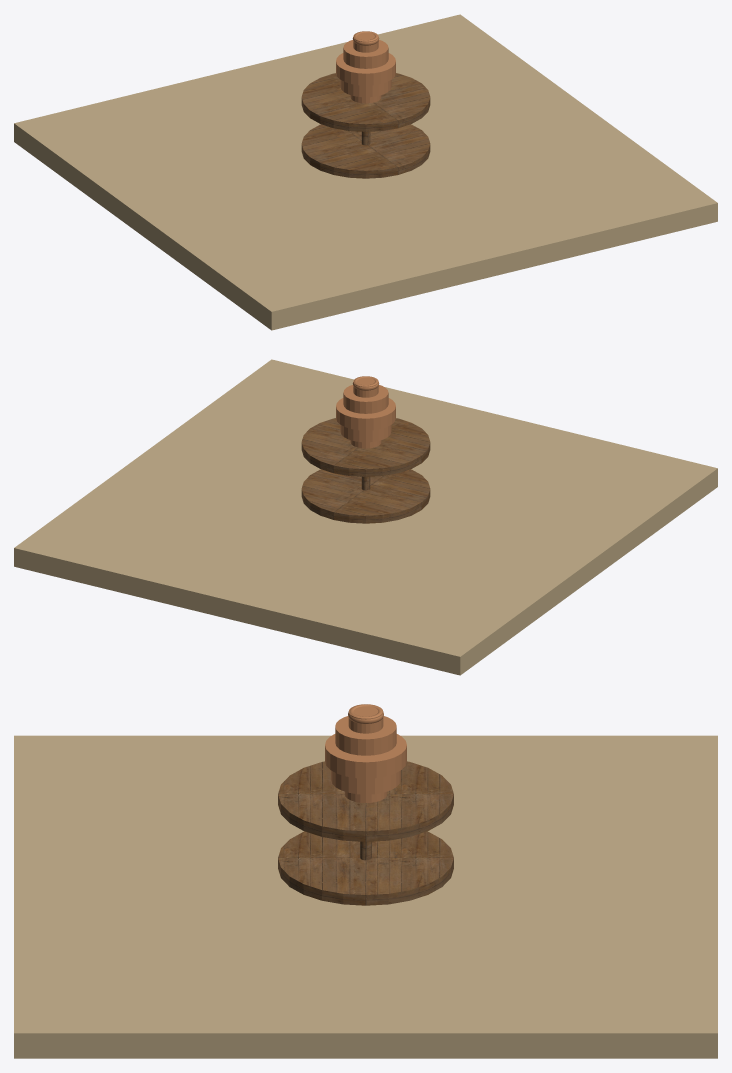
Rendered from roda_oleiro.glb.
3 views of the same model, one above another, from view 1: azimuth 30°, elevation 25°; view 2: azimuth 150°, elevation 25°; view 3: azimuth 270°, elevation 25° (orthographic). The views are drawn at different scales.
Parts seen in each view (by area): view 1: Base ilustrativa, Disco giratório, Disco giratório.001, Parede do recipiente.002, Parede do recipiente.003, Parede do recipiente.001; view 2: Base ilustrativa, Disco giratório, Disco giratório.001, Parede do recipiente.002, Parede do recipiente.003, Parede do recipiente.001; view 3: Base ilustrativa, Disco giratório, Disco giratório.001, Parede do recipiente.002, Parede do recipiente.003, Parede do recipiente.001, Parede do recipiente.004.
Boxes of the visible parts, x1,y1,x2,y2 form: Base ilustrativa: (14, 14, 717, 330); Disco giratório: (301, 124, 430, 178); Disco giratório.001: (301, 73, 430, 131); Parede do recipiente.002: (336, 53, 395, 85); Parede do recipiente.003: (343, 40, 388, 68); Parede do recipiente.001: (340, 80, 391, 97); Base ilustrativa: (14, 359, 717, 675); Disco giratório: (301, 469, 430, 523); Disco giratório.001: (301, 418, 430, 476); Parede do recipiente.002: (336, 398, 395, 430); Parede do recipiente.003: (343, 385, 388, 413); Parede do recipiente.001: (340, 425, 391, 442); Base ilustrativa: (14, 735, 717, 1058); Disco giratório: (278, 831, 453, 905); Disco giratório.001: (278, 761, 453, 841); Parede do recipiente.002: (325, 734, 406, 778); Parede do recipiente.003: (335, 716, 396, 755); Parede do recipiente.001: (331, 770, 400, 794); Parede do recipiente.004: (348, 704, 383, 733).
Size of the model in its own units: 6 by 1.87 by 6.
Materials: 3 (1 with a texture image).
